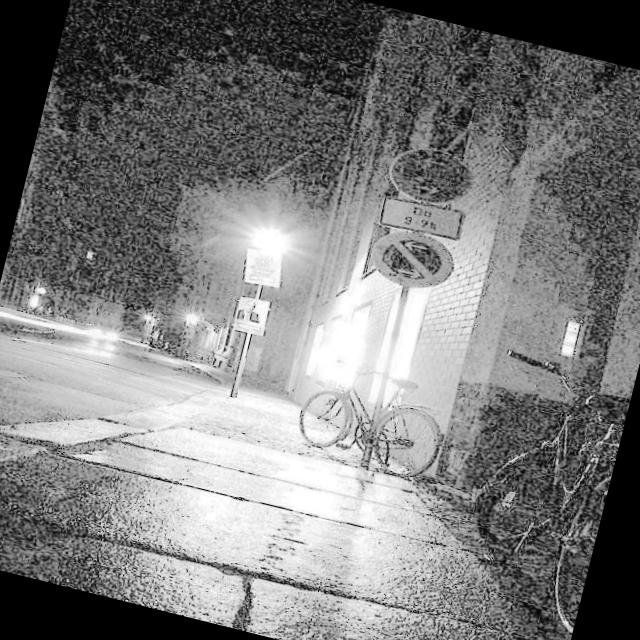Bicycle: (410, 379, 625, 640), (263, 334, 466, 494)
